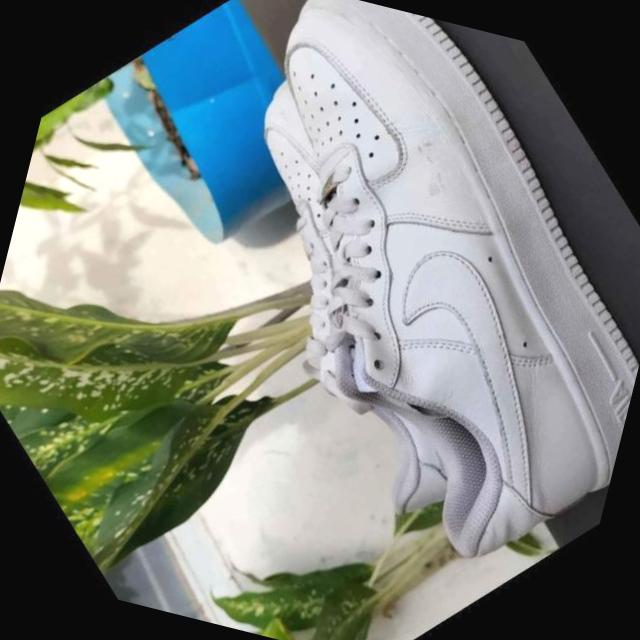nike_original_airforce: (60, 0, 640, 605)
